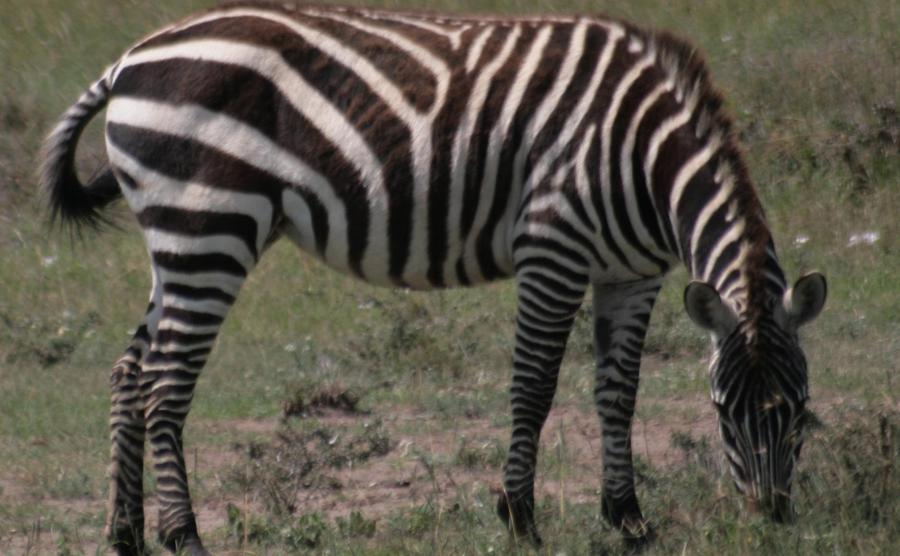zebra_plains: (123, 9, 661, 308)
